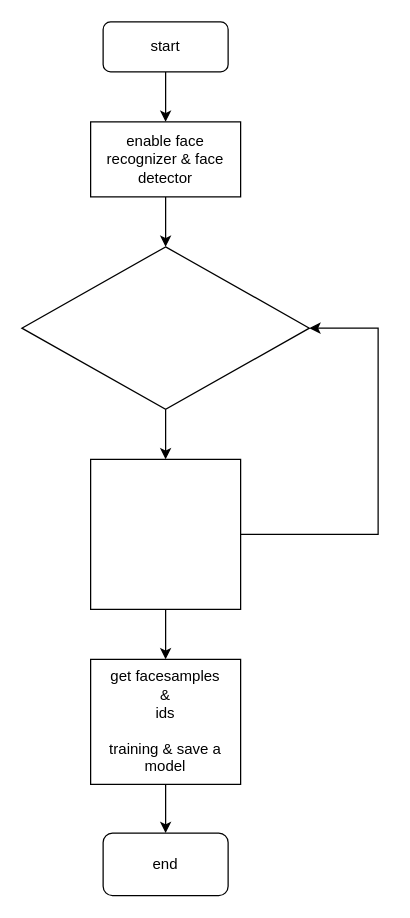
The diagram is 410 pixels wide and 918 high, and some of its shapes have lost their labels. The box of each missing label's shape, as (x1, y1, x2, y2) in pixels:
create a new dataset: (89, 458, 241, 609)
enable reputation until the number of remained image path == 0: (21, 246, 309, 409)
